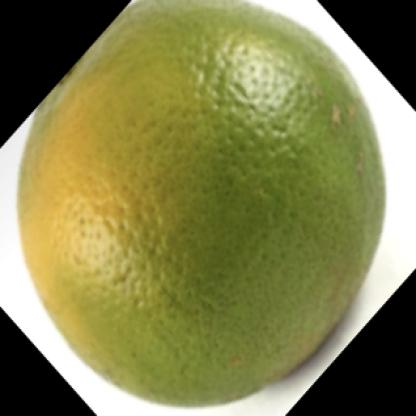fresh: (19, 1, 381, 409)
